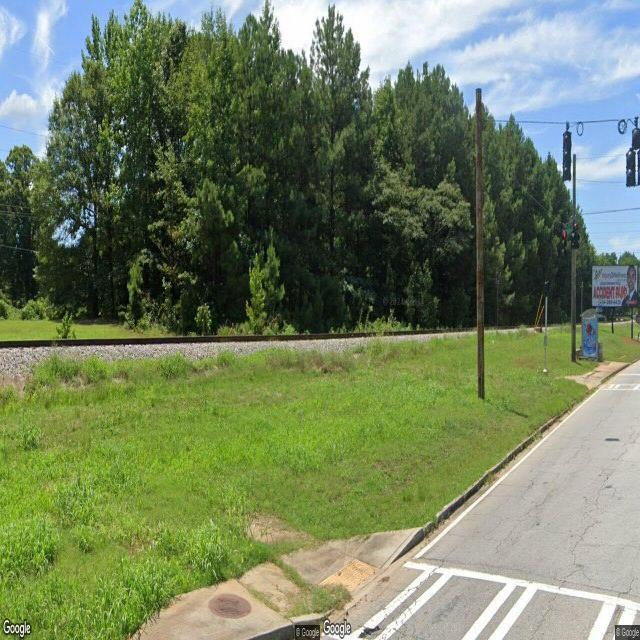shelter: (579, 308, 598, 362)
trash_can: (598, 342, 604, 362)
